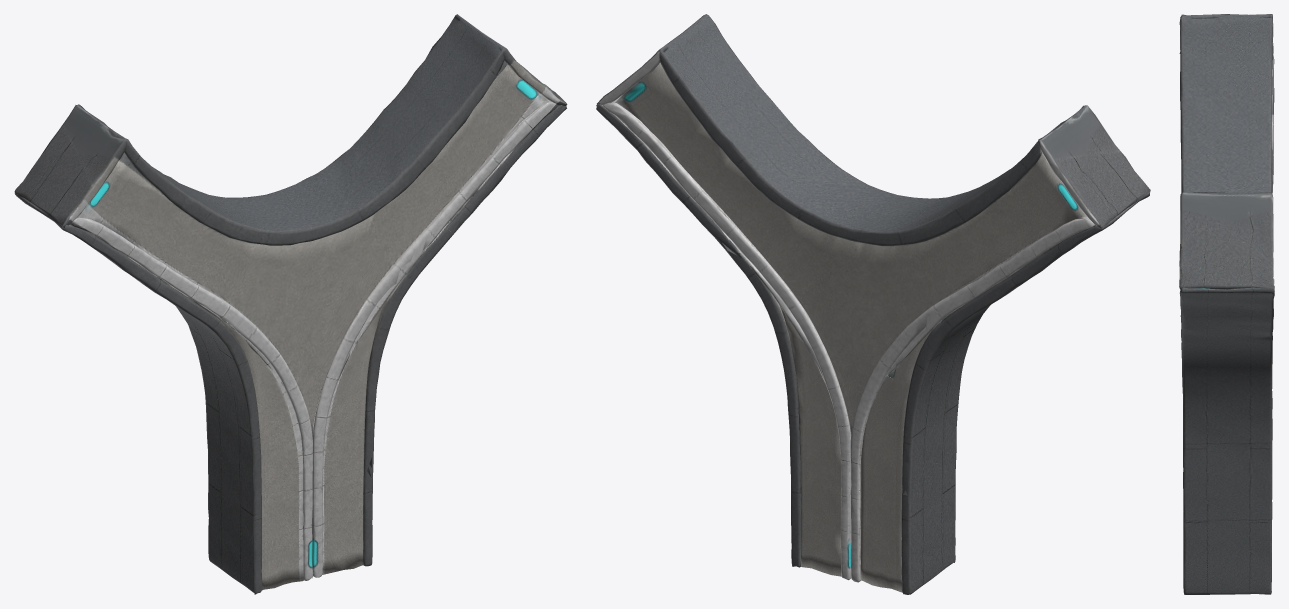
Rendered from midori_path_junction.glb.
The picture shows the model from 3 angles, left to right: view 1: azimuth 30°, elevation 25°; view 2: azimuth 150°, elevation 25°; view 3: azimuth 270°, elevation 25°; orthographic projection. The views are drawn at different scales.
Size of the model in its own units: 1 by 0.9258 by 0.1724.
Materials: 1 (1 with a texture image).
